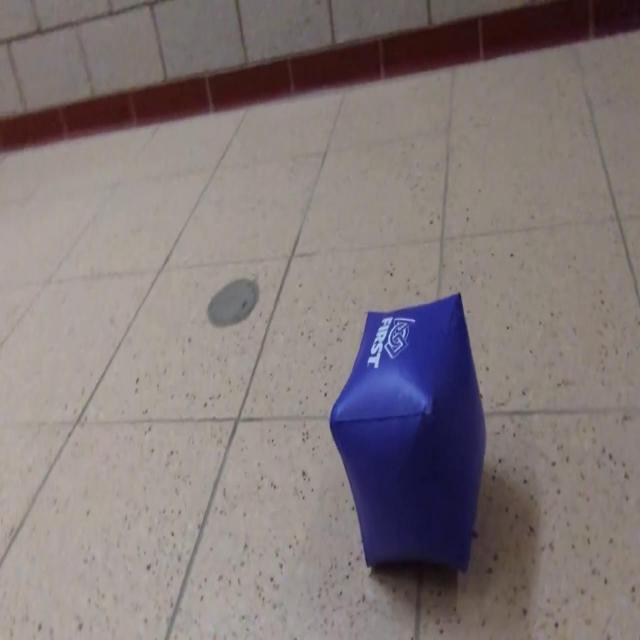frc_cube: (329, 290, 487, 575)
